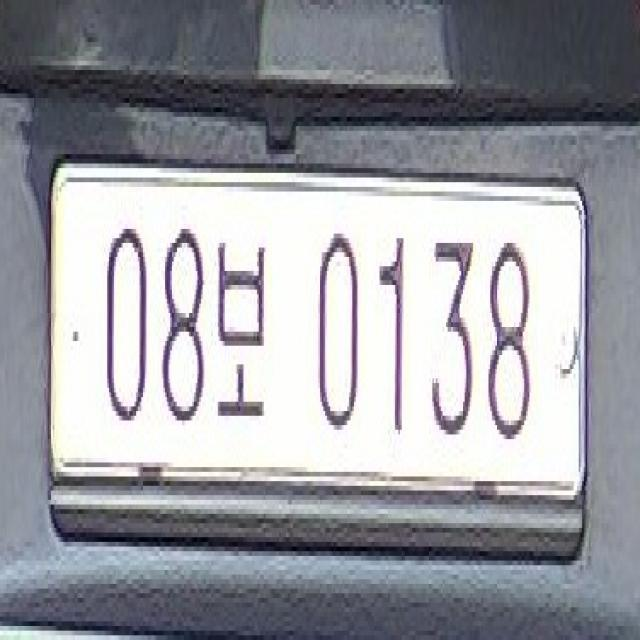0: (105, 203, 155, 438), (314, 222, 361, 442)
1: (374, 210, 412, 456)
3: (425, 228, 475, 468)
8: (486, 228, 536, 456), (161, 221, 209, 442)
bo: (215, 228, 278, 431)
license_plate: (29, 142, 599, 551)
